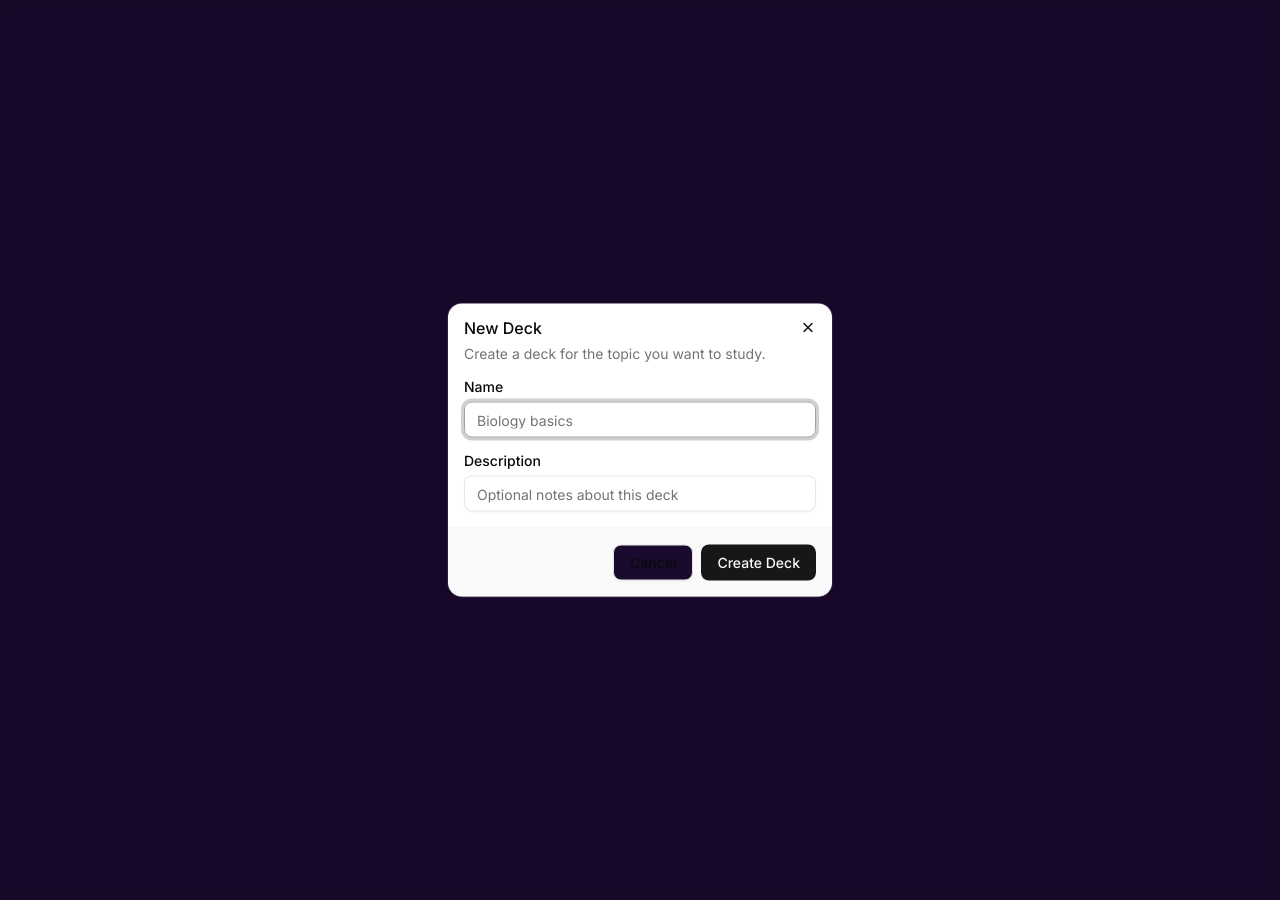
Test: NewDeckModal › validates required deck names
The width and height of the screenshot is (1280, 900).
Click the button "Create Deck" at {"x": 759, "y": 562}, box [702, 544, 816, 580]
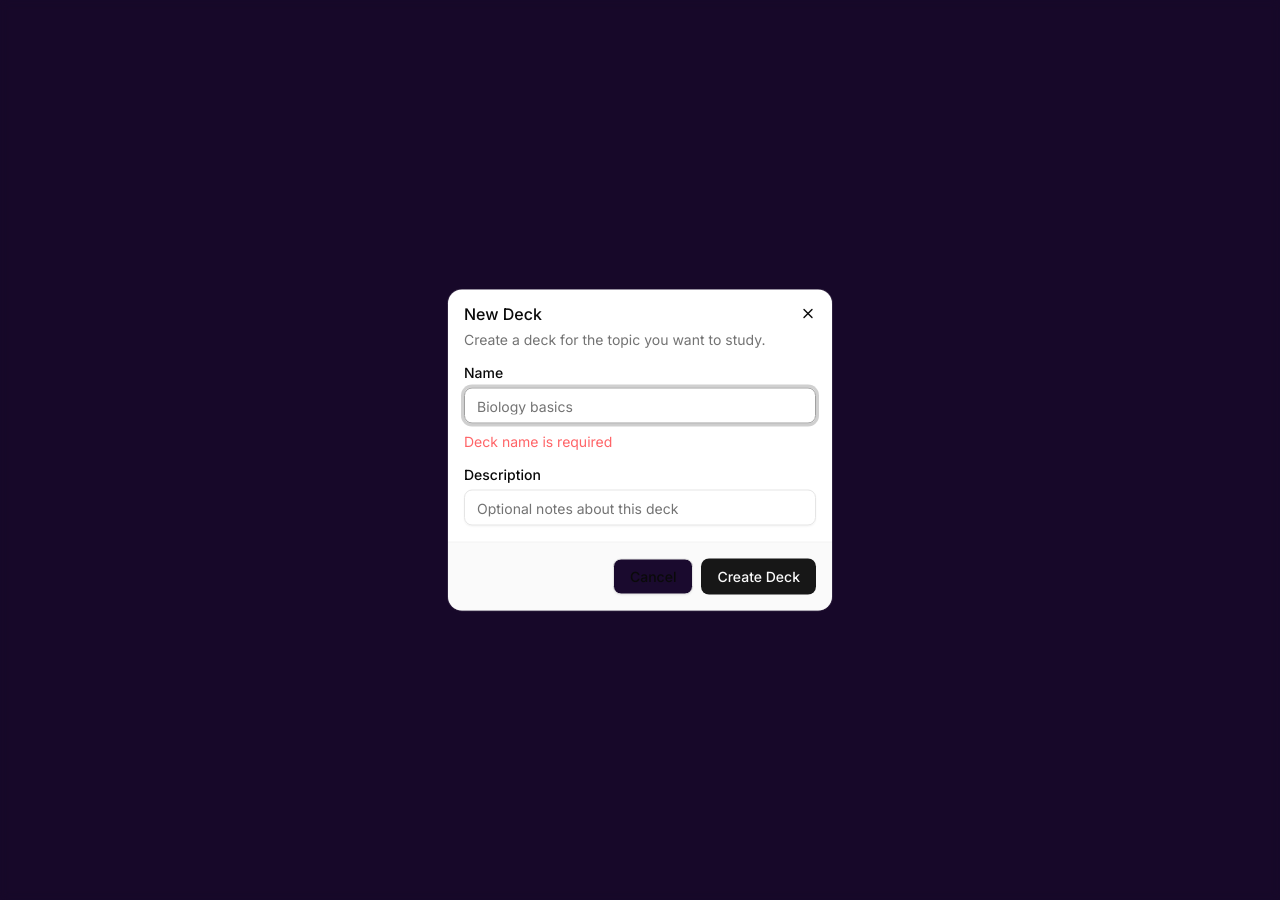
Now the message reads "Deck name is required", box [464, 432, 612, 450]
